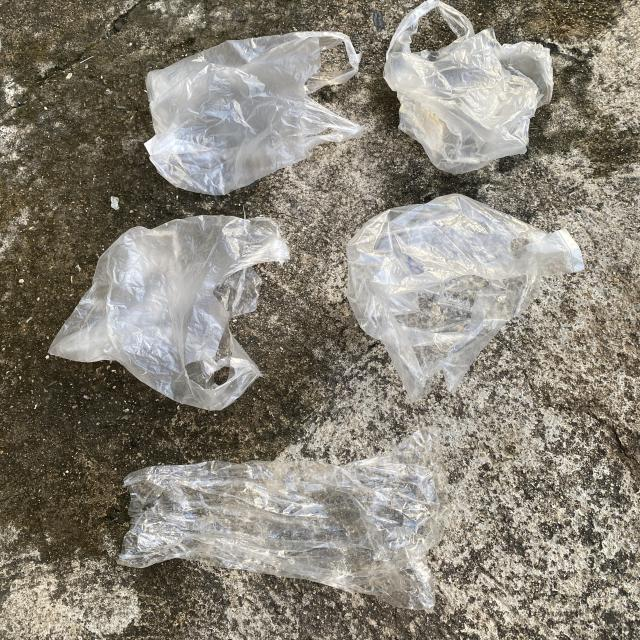Single-layer Plastic: (118, 428, 448, 609), (346, 194, 584, 401), (49, 215, 289, 410), (145, 31, 362, 195), (384, 0, 554, 174)
